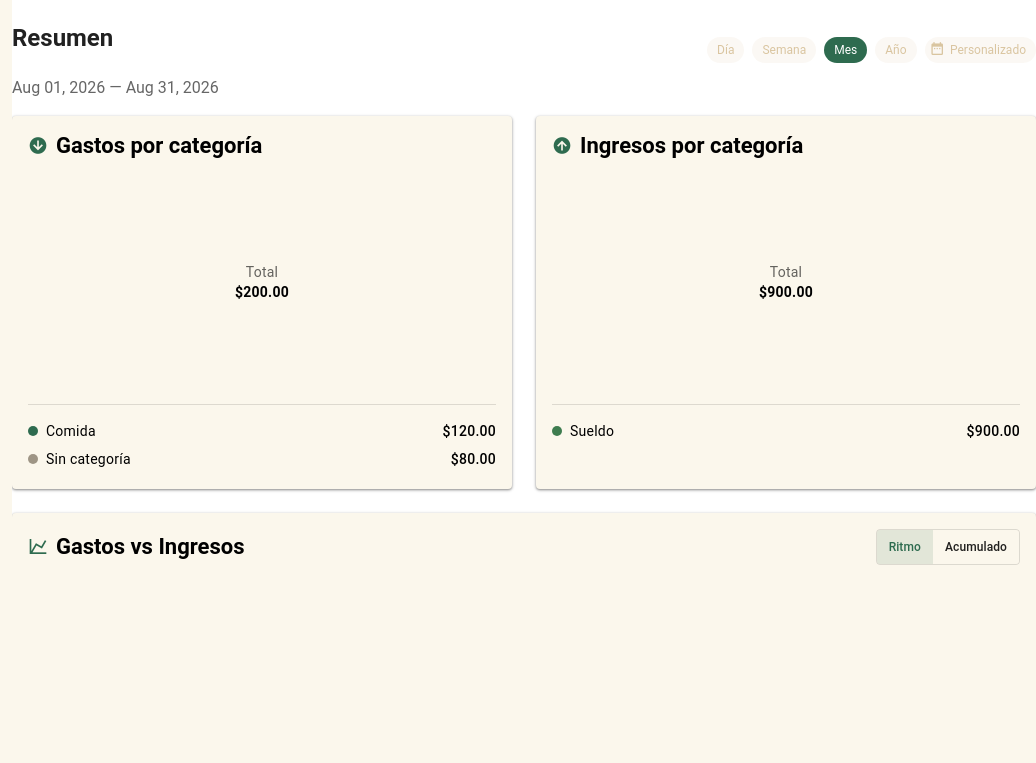
Test case: DashboardSummary › reloads budgets and recomputes status for the selected period
Click the element with test id "preset-year".
click(896, 50)  # box top-left (875, 37), bottom-right (916, 63)
(page scrolled)
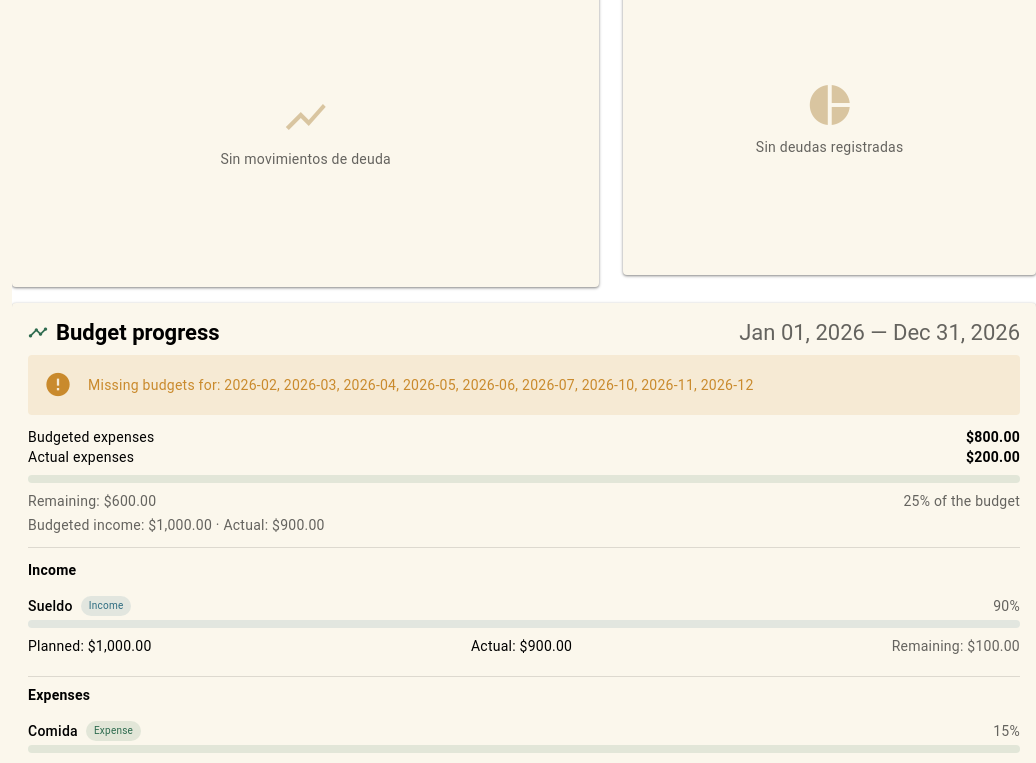
Expected: the element with test id "budget-missing-months" shows "2026-02", top-left (88, 377), bottom-right (754, 393)
Expected: the element with test id "budget-missing-months" shows "Missing budgets for: 2026-02", top-left (88, 377), bottom-right (754, 393)
